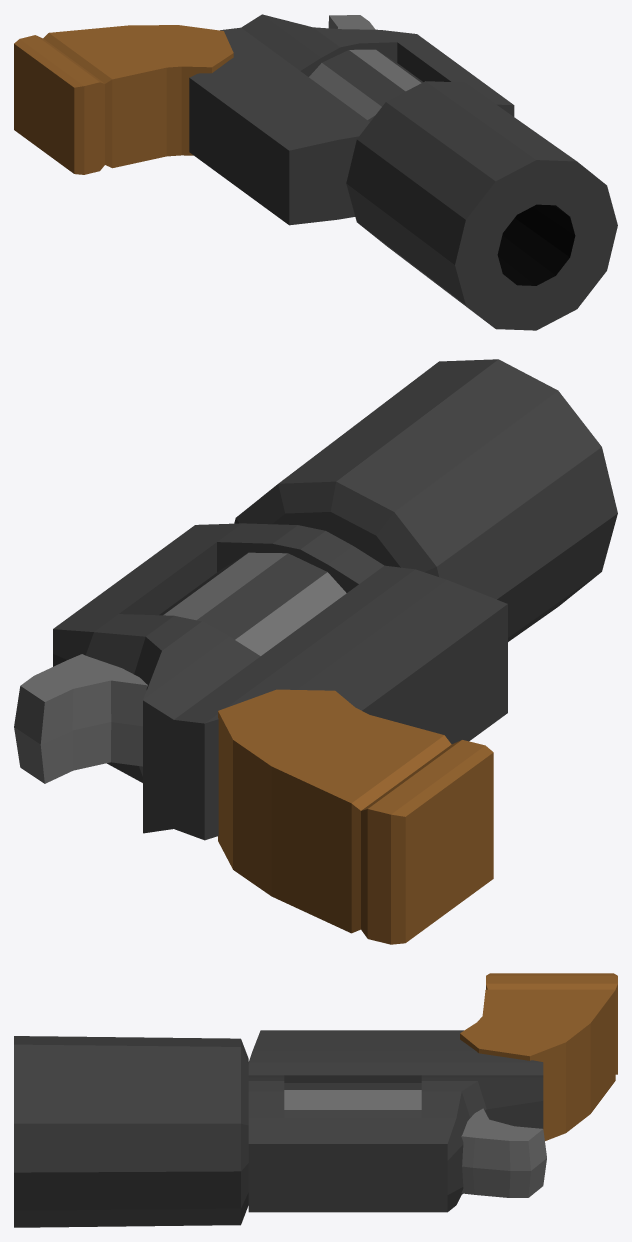
The model's file is pistol.fbx.
3 views of the same model, one above another, from view 1: azimuth 30°, elevation 25°; view 2: azimuth 150°, elevation 25°; view 3: azimuth 270°, elevation 25° (orthographic). The views are drawn at different scales.
Parts seen in each view (by area): view 1: 5; view 2: 5; view 3: 5.
Boxes of the visible parts, box(x1,y1,x2,y2) form: 5: box(14, 14, 617, 330); 5: box(14, 359, 617, 944); 5: box(14, 973, 617, 1227).
Bounding box in the file's own units: 0.7669 × 0.483 × 0.2445.
